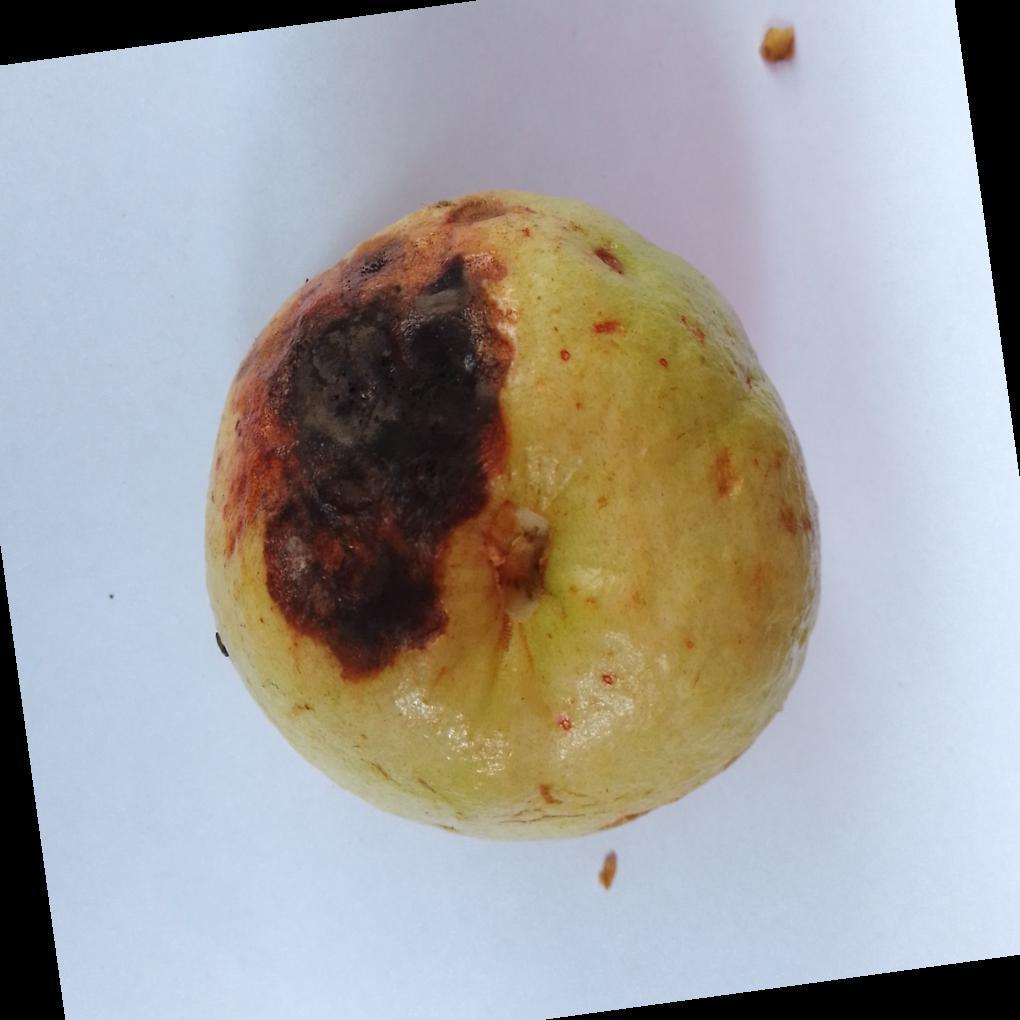FreshOrange: (202, 191, 823, 846)
